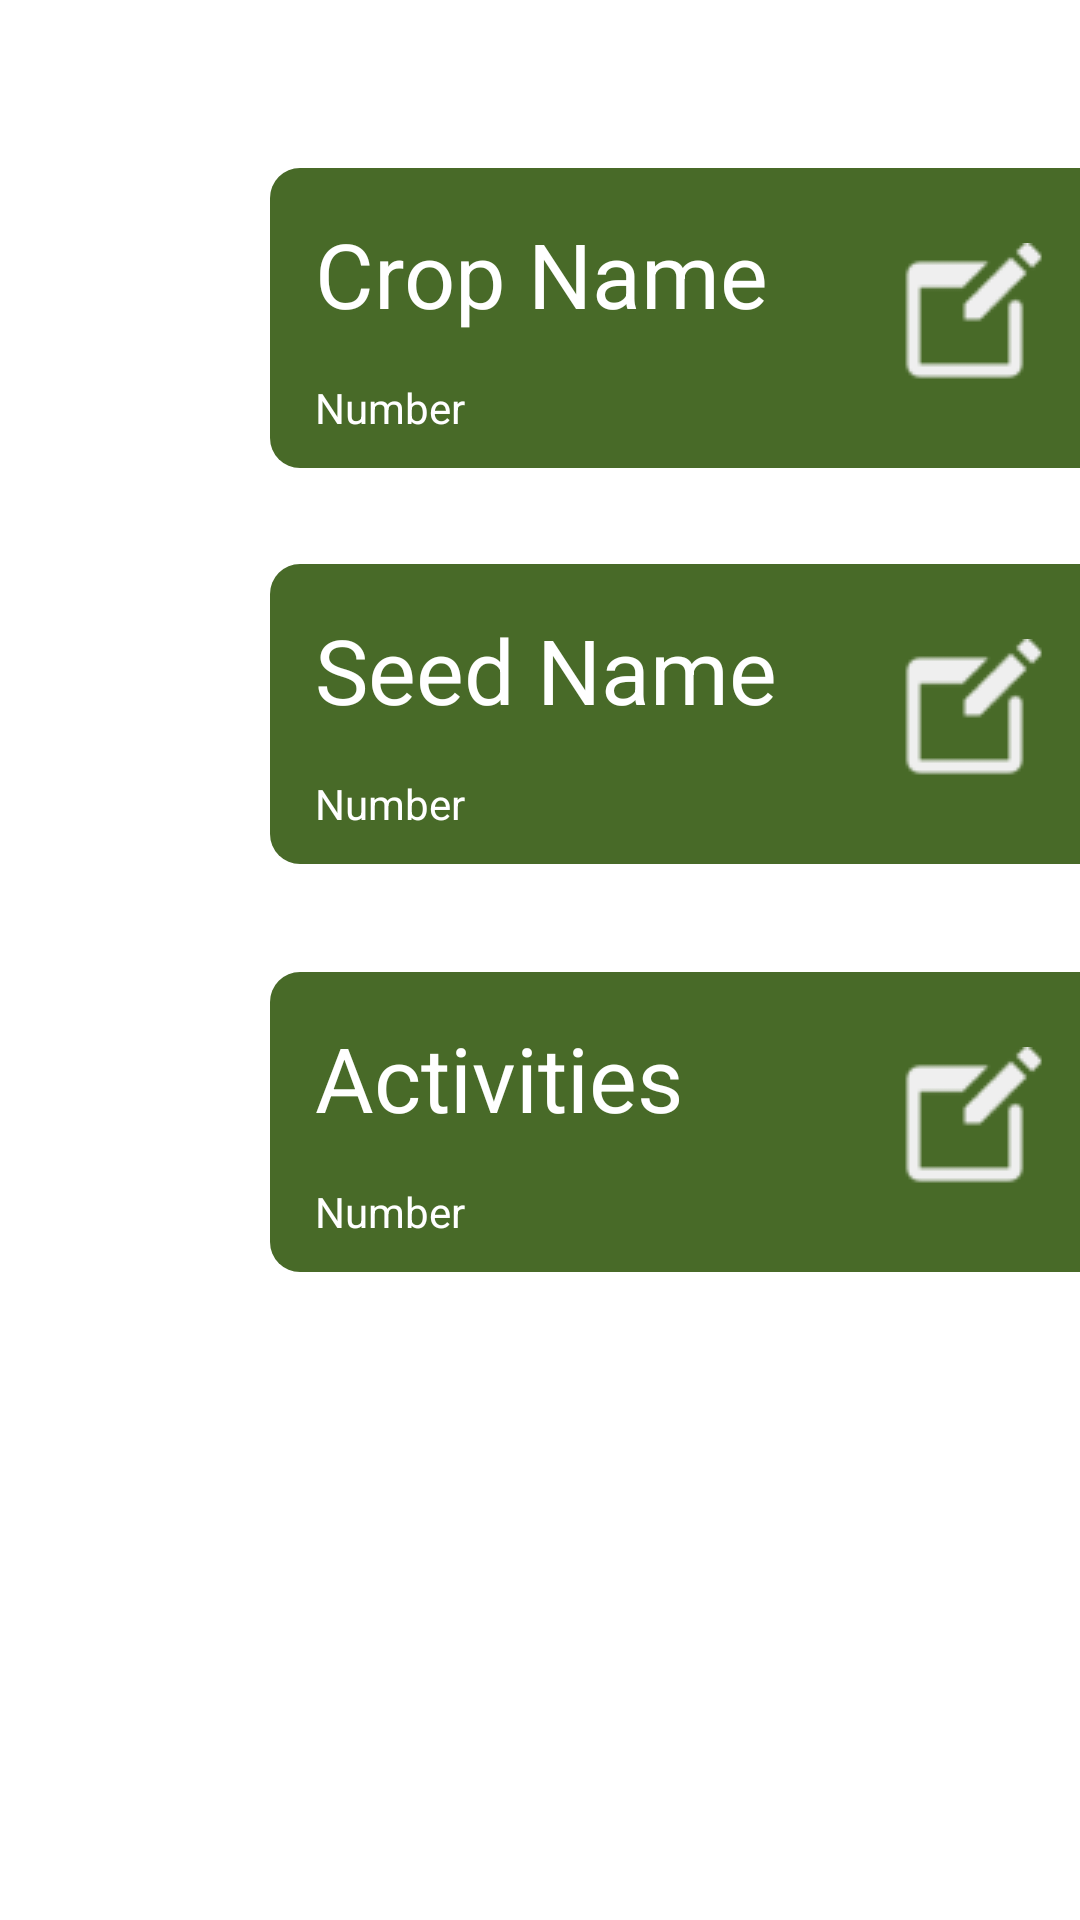

Screen size 1080px×1920px. Icon name, then its center in pixels as [x,y]:
create: [973,311], [973,707], [973,1115]
